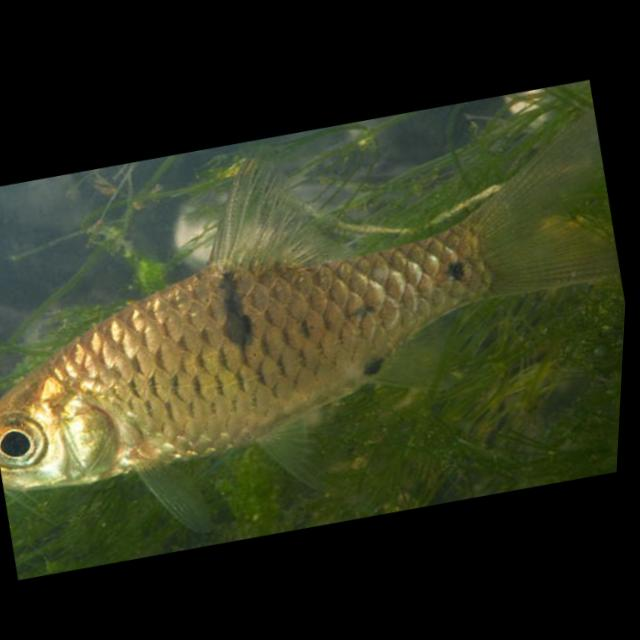fish: (0, 75, 637, 529)
